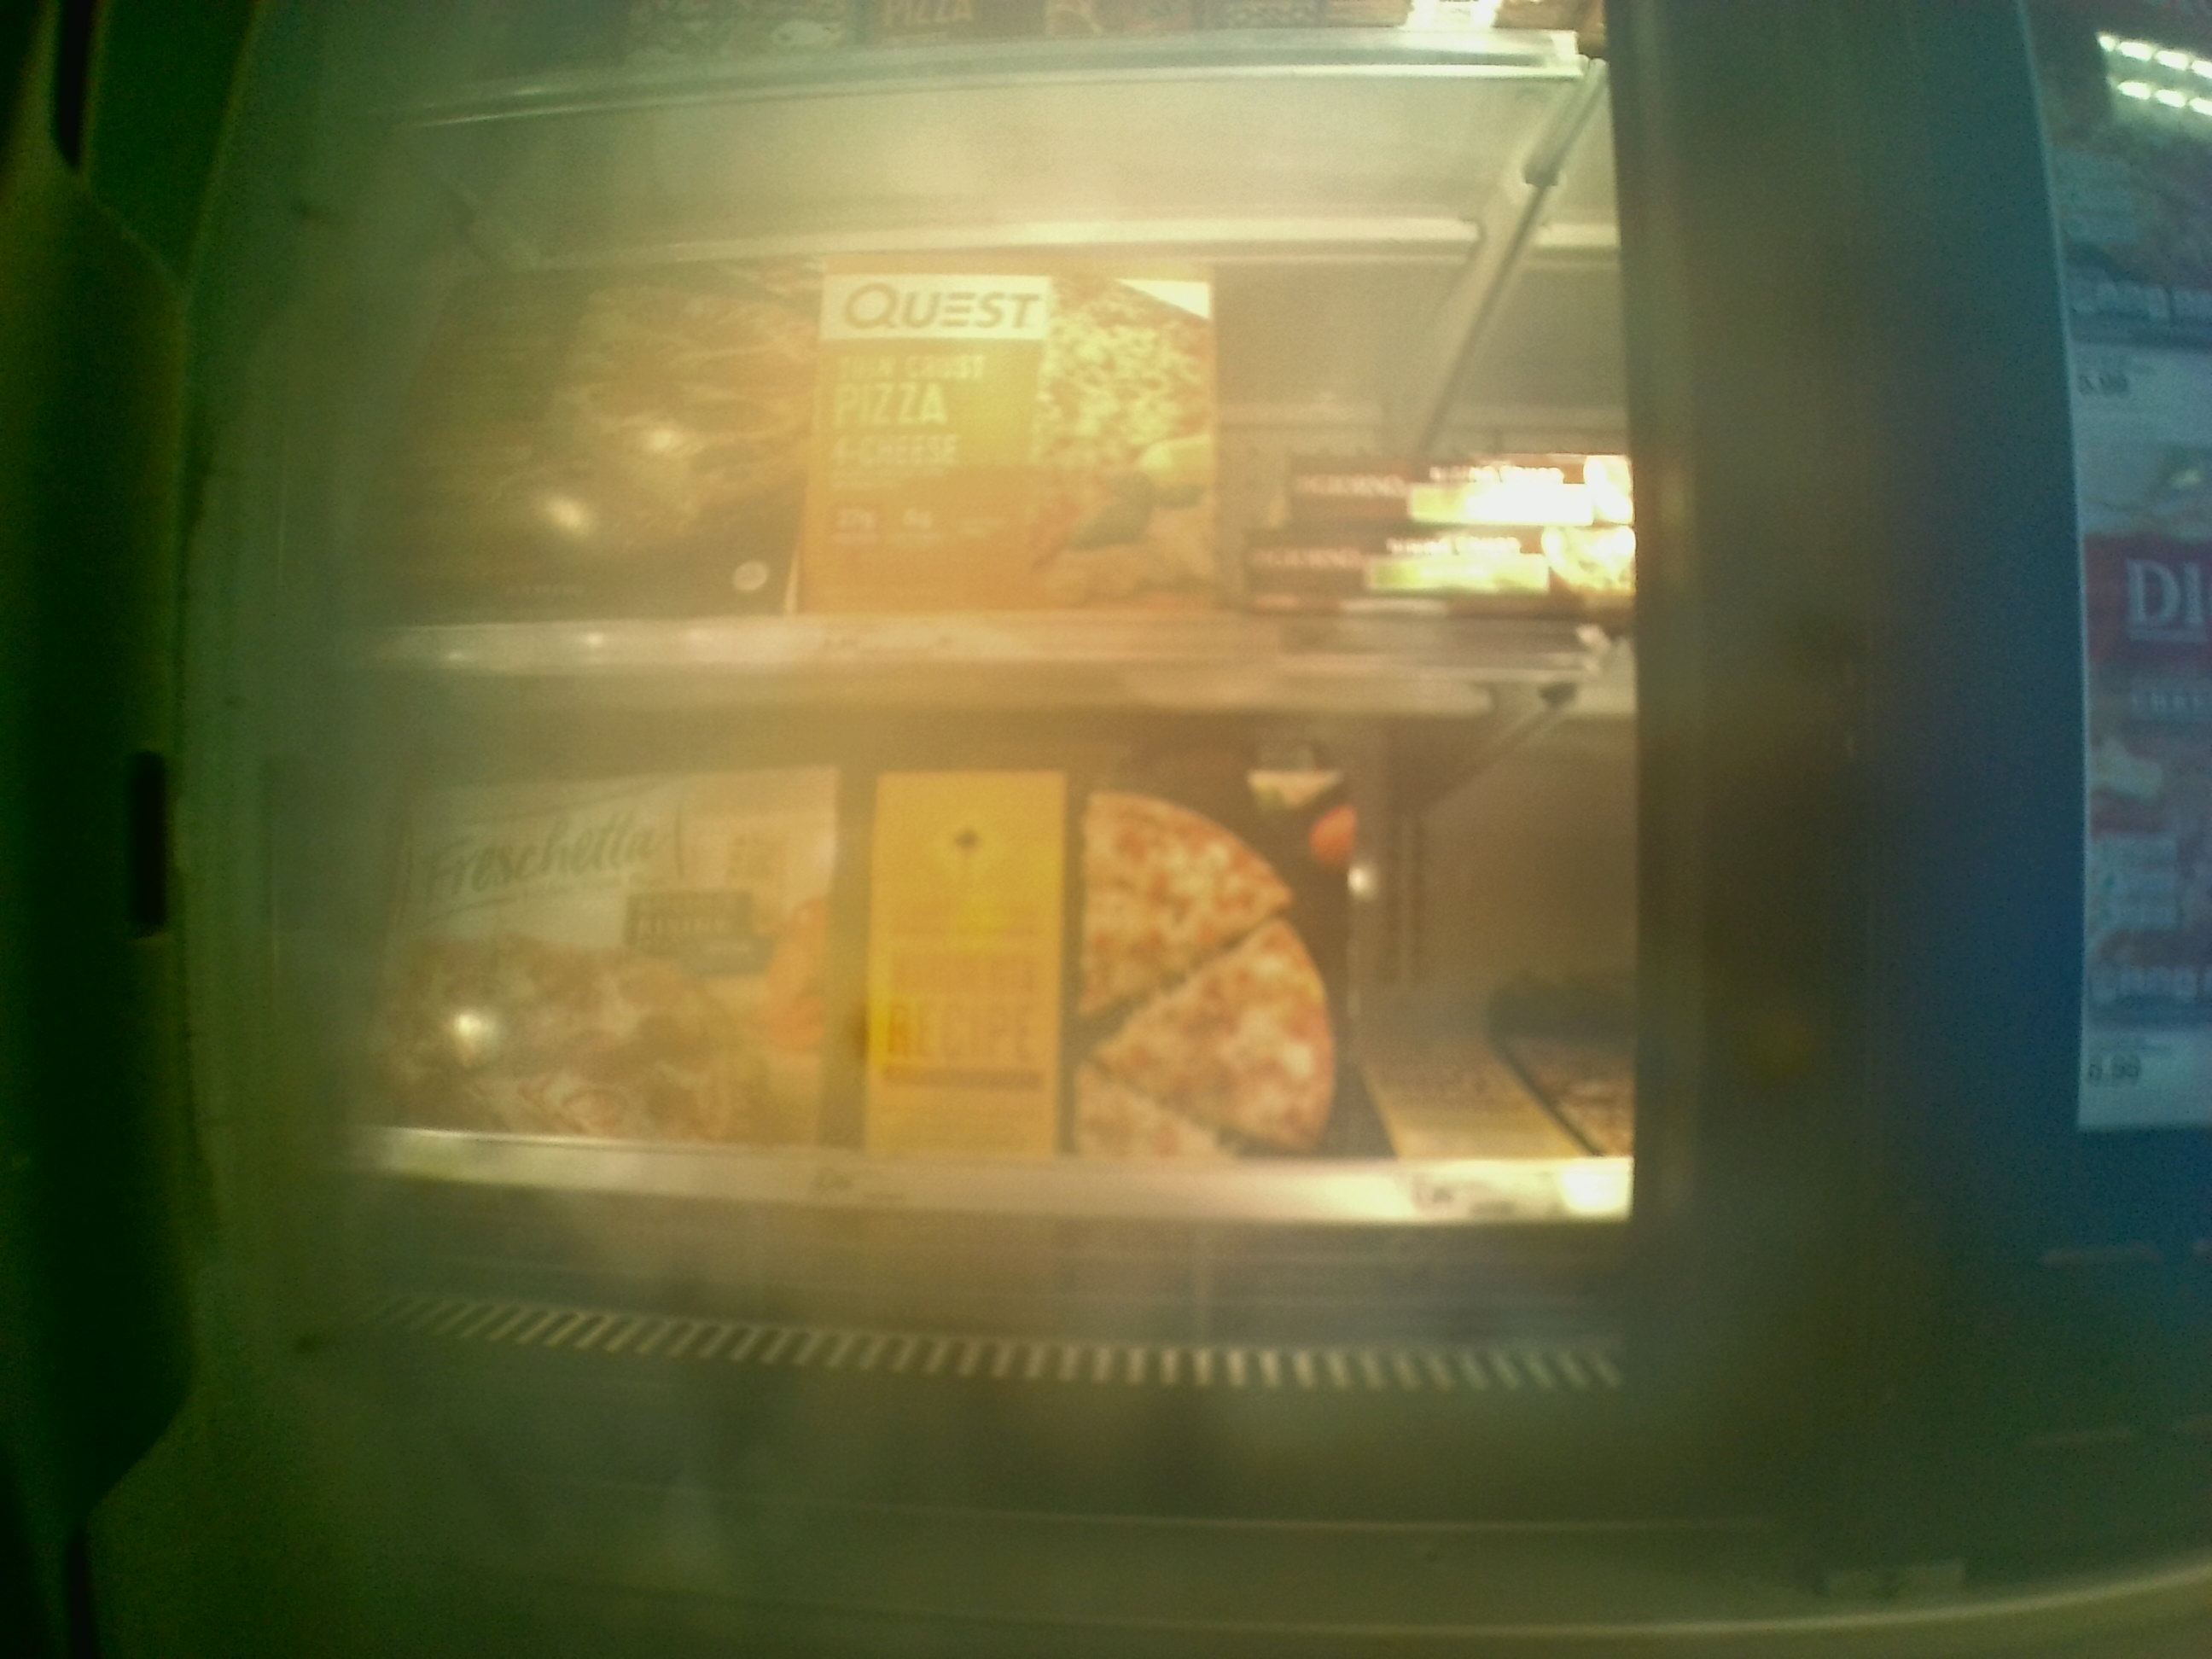shelf: (348, 666, 1623, 1337)
